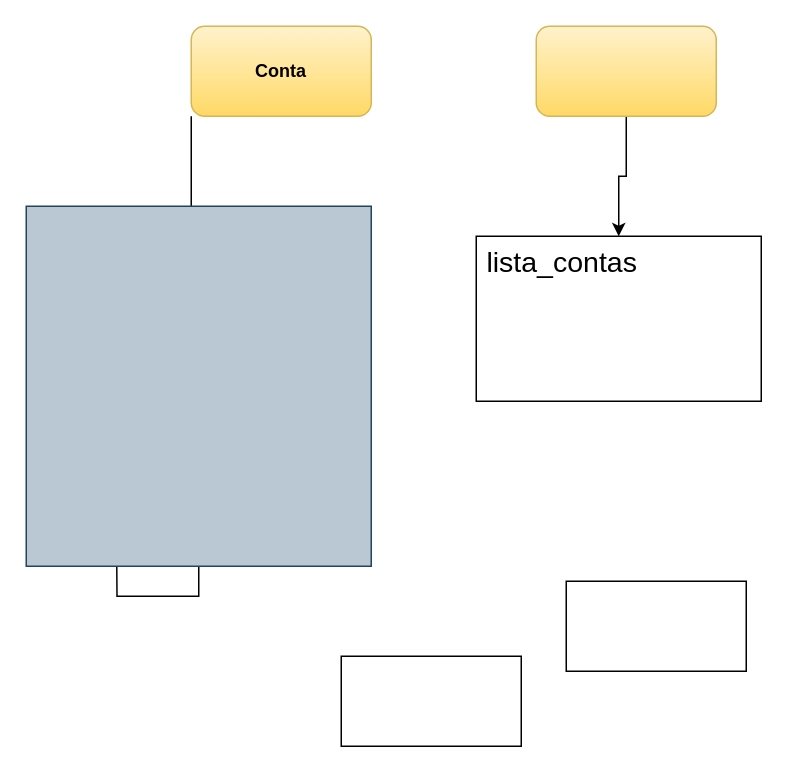
Some shapes in this 788 by 773 pixel diagram are drawn without their labels. The centre of each missing label's shape, as x and y in pixels:
BANCO: [625,70]
número: int saldo: double titular: String: [198,385]
